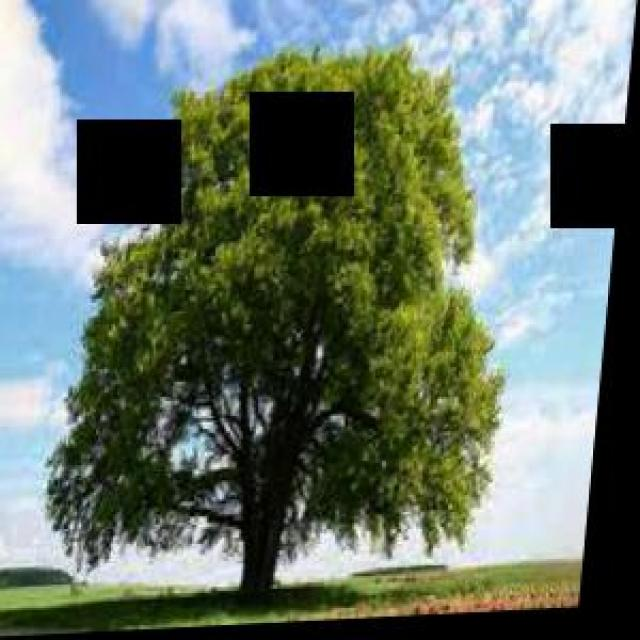tree: (35, 1, 638, 632)
